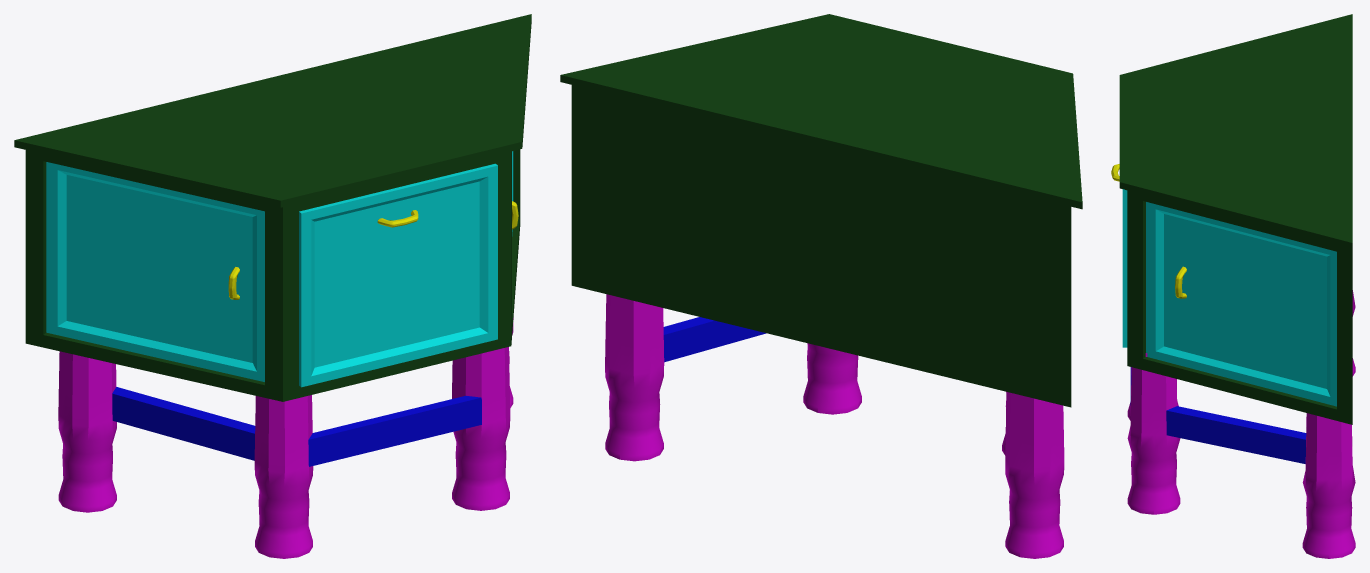
Rendered from furniture_1_v2.fbx.
The picture shows the model from 3 angles, left to right: view 1: azimuth 30°, elevation 25°; view 2: azimuth 150°, elevation 25°; view 3: azimuth 270°, elevation 25°; orthographic projection. The views are drawn at different scales.
Visible parts, largest first — view 1: furniture_1; view 2: furniture_1; view 3: furniture_1.
Part boxes in pixels (left/top/right/bottom): furniture_1: left=14, top=14, right=531, bottom=558; furniture_1: left=560, top=14, right=1082, bottom=558; furniture_1: left=1111, top=14, right=1355, bottom=558.
Size of the model in its own units: 7.28 by 4.91 by 3.28.
